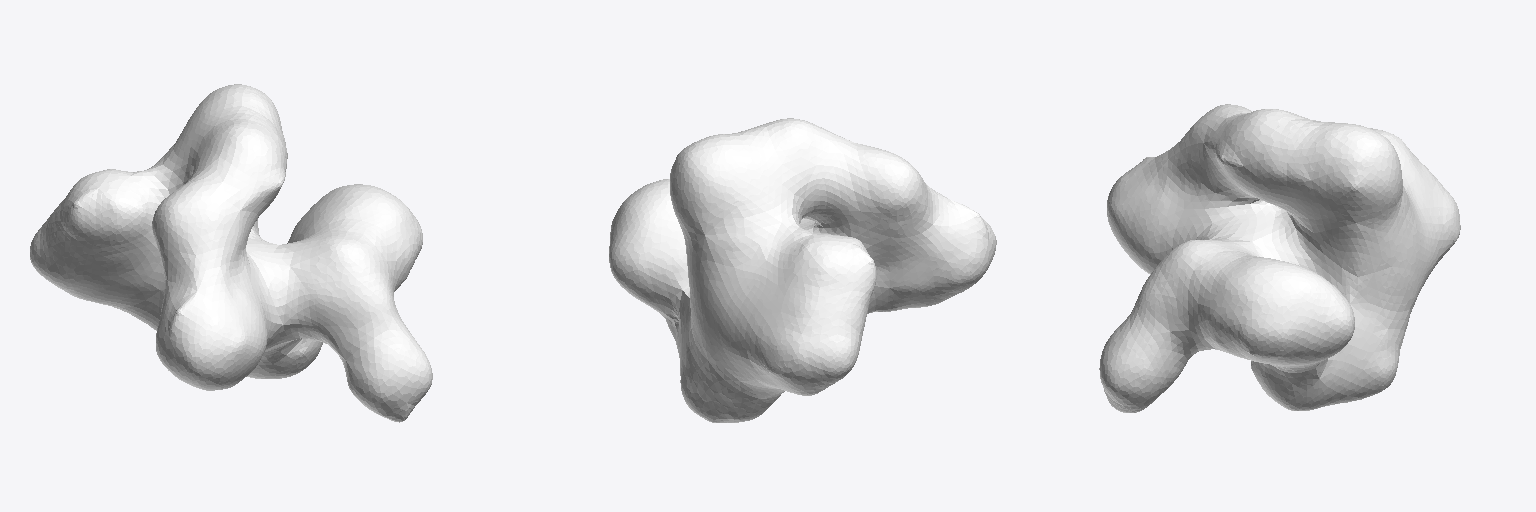
Rendered from blob.obj.
The picture shows the model from 3 angles: view 1: azimuth 30°, elevation 25°; view 2: azimuth 150°, elevation 25°; view 3: azimuth 270°, elevation 25°; orthographic projection.
Visible parts, largest first — view 1: polySurface3; view 2: polySurface3; view 3: polySurface3.
Part boxes in pixels (left/top/right/bottom): polySurface3: left=30, top=84, right=432, bottom=422; polySurface3: left=609, top=118, right=996, bottom=422; polySurface3: left=1099, top=104, right=1460, bottom=412.
Bounding box in the file's own units: 19.19 × 16.12 × 19.3.